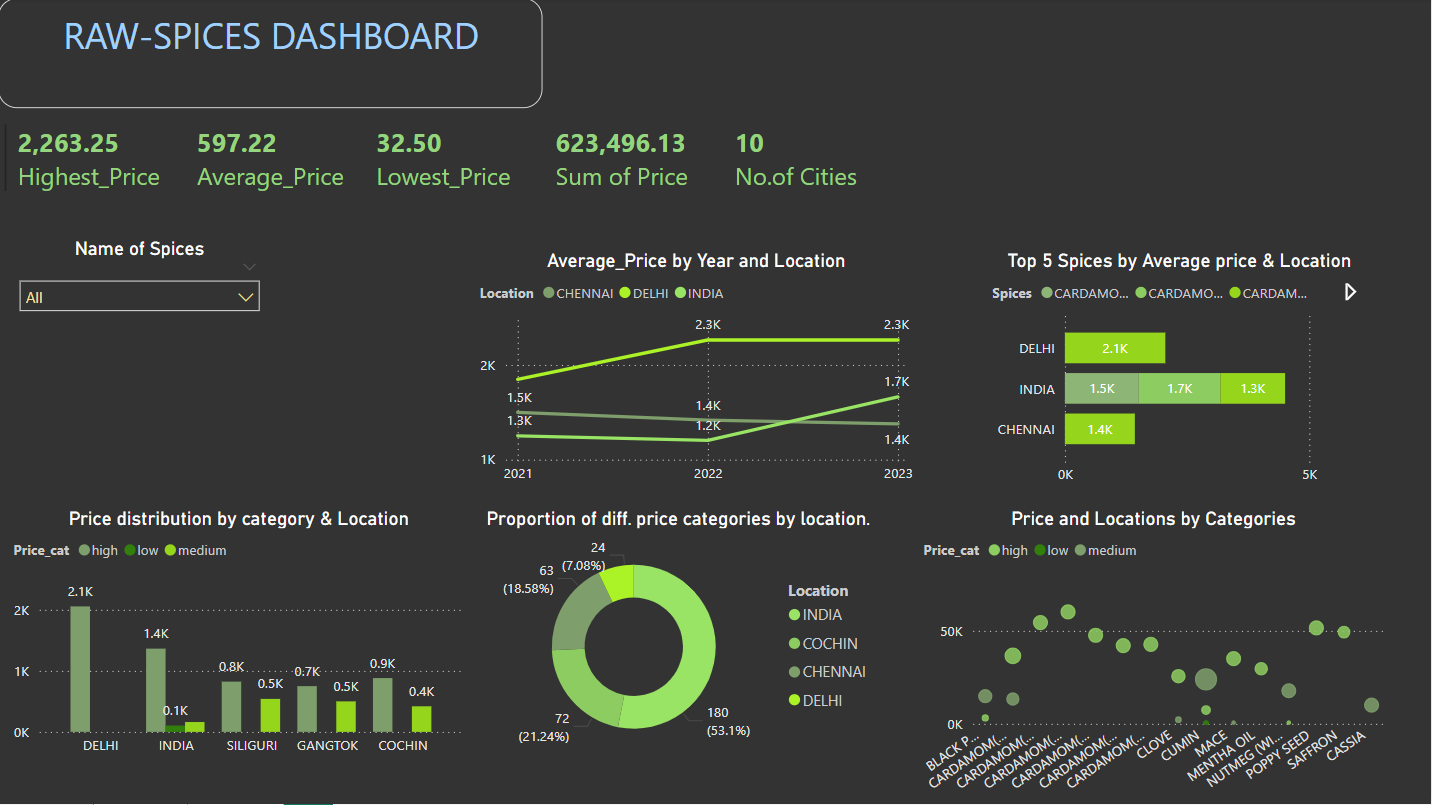

Layout of this report page (visuals, bound fields, positions):
{"tool":"powerbi","page":{"name":"Page 1","canvas":[1280,720],"ordinal":0},"visuals":[{"type":"slicer","title":"Name of Spices","fields":{"Values":["forecasting_db spices_data.Spices"]},"box":[8.4,213.3,234.9,81.5],"z":0},{"type":"textbox","box":[0,0,486.2,98.1],"z":1000},{"type":"multiRowCard","fields":{"Values":["forecasting_db spices_data.Highest_Price","forecasting_db spices_data.Average_Price","forecasting_db spices_data.Lowest_Price","Sum(forecasting_db spices_data.Price)","forecasting_db spices_data.No.of Cities"]},"box":[1.2,107.9,822.2,95.9],"z":2000},{"type":"barChart","title":"Top 5 Spices by Average price & Location","fields":{"Category":["forecasting_db spices_data.Location"],"Y":["forecasting_db spices_data.Average_Price"],"Series":["forecasting_db spices_data.Spices"]},"box":[883.3,224.1,344,219.3],"z":3000},{"type":"lineChart","fields":{"Category":["forecasting_db spices_data.Date.Variation.Date Hierarchy.Year","forecasting_db spices_data.Date.Variation.Date Hierarchy.Quarter","forecasting_db spices_data.Date.Variation.Date Hierarchy.Month","forecasting_db spices_data.Date.Variation.Date Hierarchy.Day"],"Y":["forecasting_db spices_data.Average_Price"],"Series":["forecasting_db spices_data.Location"]},"box":[425.5,224.1,396.7,218.1],"z":4000},{"type":"donutChart","title":"Proportion of diff. price categories by location.","fields":{"Category":["forecasting_db spices_data.Location"],"Y":["CountNonNull(forecasting_db spices_data.Price_cat)"]},"box":[425.5,454.2,364.3,231.3],"z":5000},{"type":"clusteredColumnChart","title":"Price distribution by category & Location","fields":{"Category":["forecasting_db spices_data.Location"],"Y":["forecasting_db spices_data.Average_Price"],"Series":["forecasting_db spices_data.Price_cat"]},"box":[8.4,454.2,412.3,231.3],"z":6000},{"type":"scatterChart","title":"Price and Locations by Categories","fields":{"Y":["Sum(forecasting_db spices_data.Price)"],"X":["forecasting_db spices_data.Spices"],"Series":["forecasting_db spices_data.Price_cat"],"Size":["CountNonNull(forecasting_db spices_data.Location)"]},"box":[822.2,454.2,420.7,266.1],"z":7000}]}

Visuals, with their boxes in screenshot pixels (x1, y1, x2, y2), scaled from the page's 1280x720 canvas onto the 1432x805 screenshot:
"Name of Spices" slicer: <box>9,238,272,330</box>
textbox: <box>0,0,544,110</box>
multiRowCard - forecasting_db spices_data.Highest_Price x forecasting_db spices_data.Average_Price: <box>1,121,921,228</box>
"Top 5 Spices by Average price & Location" barChart: <box>988,251,1373,496</box>
lineChart - forecasting_db spices_data.Date.Variation.Date Hierarchy.Year x forecasting_db spices_data.Date.Variation.Date Hierarchy.Quarter: <box>476,251,920,494</box>
"Proportion of diff. price categories by location." donutChart: <box>476,508,884,766</box>
"Price distribution by category & Location" clusteredColumnChart: <box>9,508,471,766</box>
"Price and Locations by Categories" scatterChart: <box>920,508,1390,804</box>
